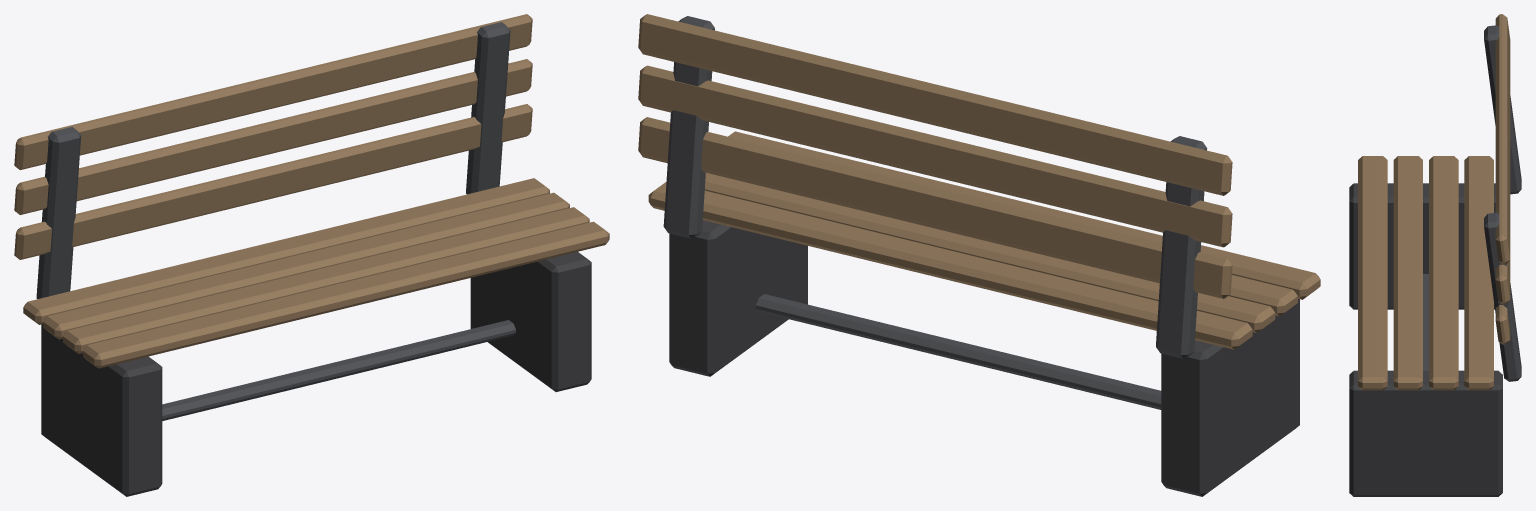
File: PRP_Bench_ML_v001.glb
3 views of the same model, side by side, from view 1: azimuth 30°, elevation 25°; view 2: azimuth 150°, elevation 25°; view 3: azimuth 270°, elevation 25° (orthographic). The views are drawn at different scales.
Parts seen in each view (by area): view 1: PRP_Bench_ML_v001; view 2: PRP_Bench_ML_v001; view 3: PRP_Bench_ML_v001.
Boxes of the visible parts, x1,y1,x2,y2 form: PRP_Bench_ML_v001: [14, 14, 609, 496]; PRP_Bench_ML_v001: [638, 14, 1320, 496]; PRP_Bench_ML_v001: [1349, 14, 1521, 496].
Size of the model in its own units: 1.8 by 1.02 by 0.5839.
